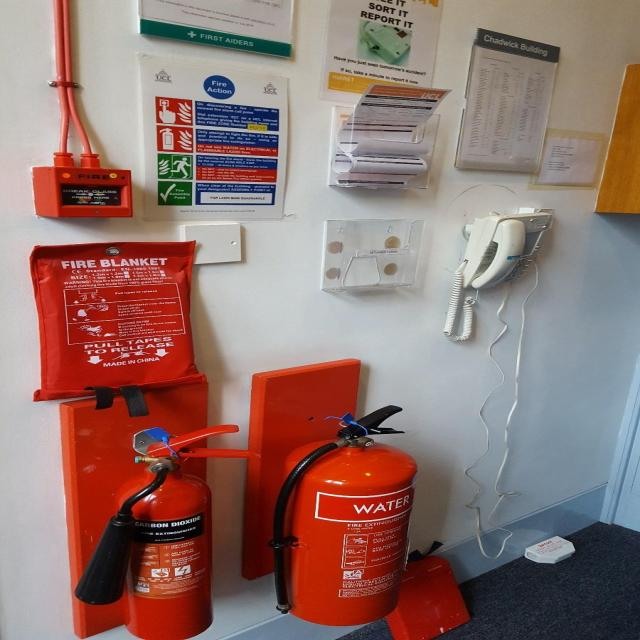fire_extinguisher: (70, 422, 271, 640), (264, 402, 422, 630)
